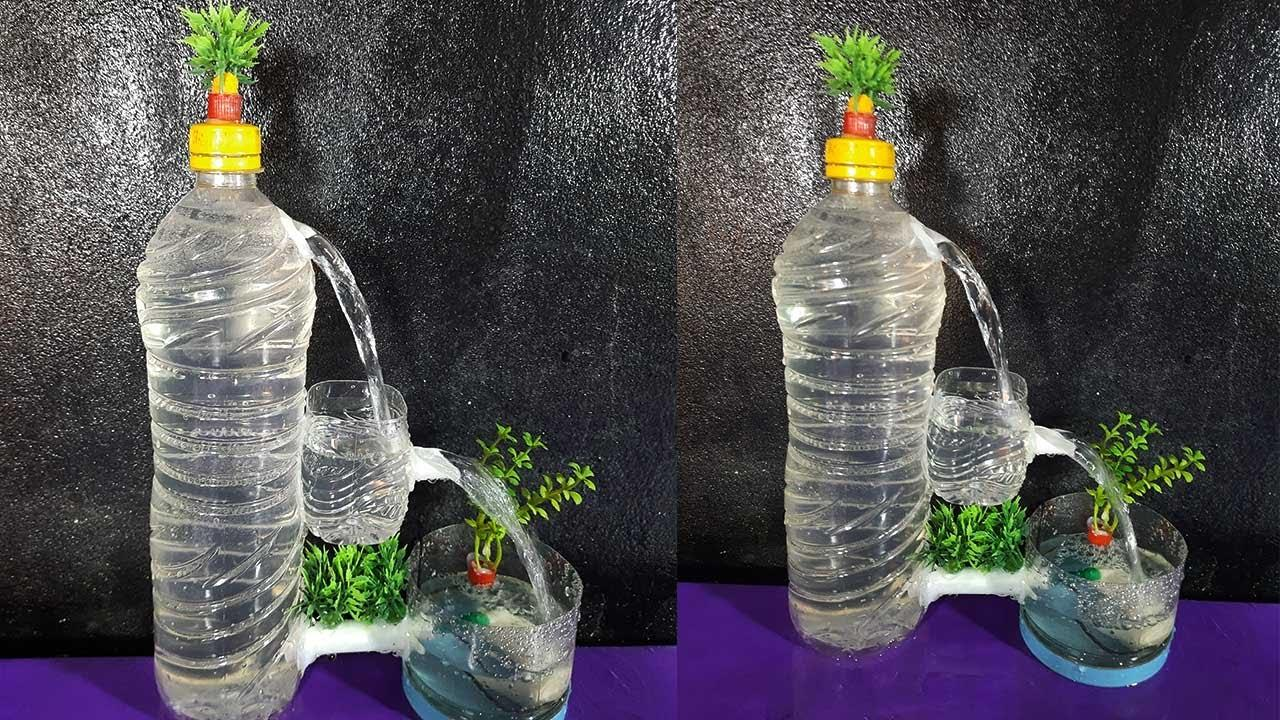plastic: (135, 6, 316, 720), (772, 30, 947, 655)
